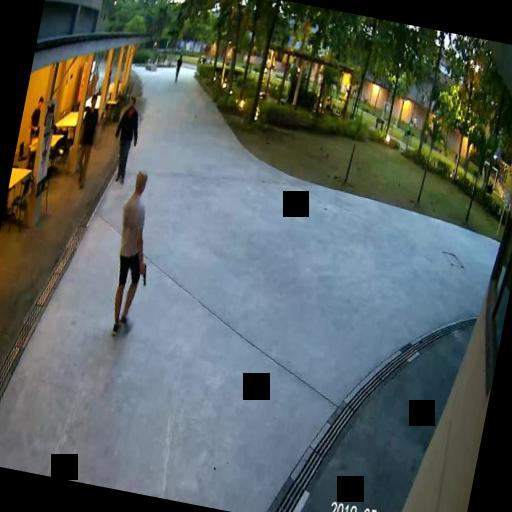Handgun: (134, 261, 148, 286)
